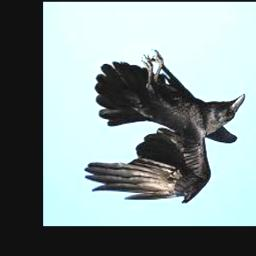Crow: (83, 49, 244, 205)
